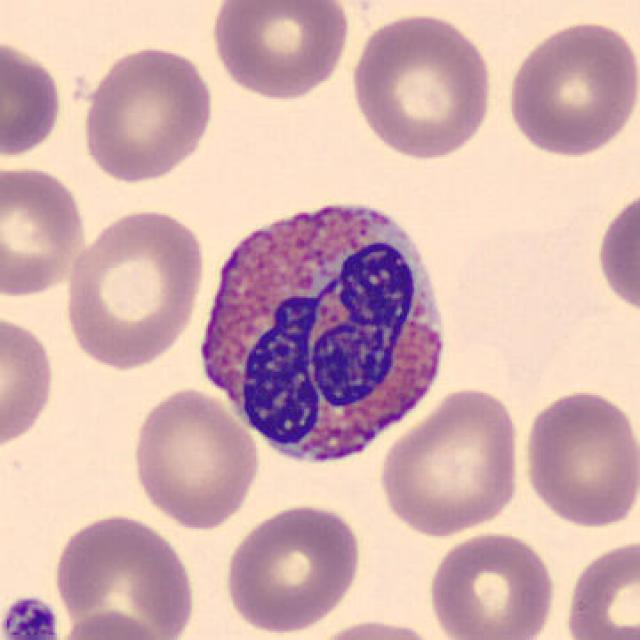Eosinophil: (183, 178, 461, 480)
Platelets: (0, 592, 62, 640)
RBC: (60, 205, 208, 372), (375, 384, 526, 540), (347, 9, 498, 162), (76, 42, 217, 185), (126, 384, 262, 532), (501, 16, 640, 160), (220, 499, 364, 636), (50, 510, 199, 638), (519, 384, 638, 531), (423, 527, 560, 640), (206, 0, 353, 102), (0, 162, 89, 300), (0, 308, 59, 455), (0, 33, 66, 164), (560, 534, 640, 640), (592, 180, 638, 322), (46, 608, 176, 640), (304, 615, 446, 640)
